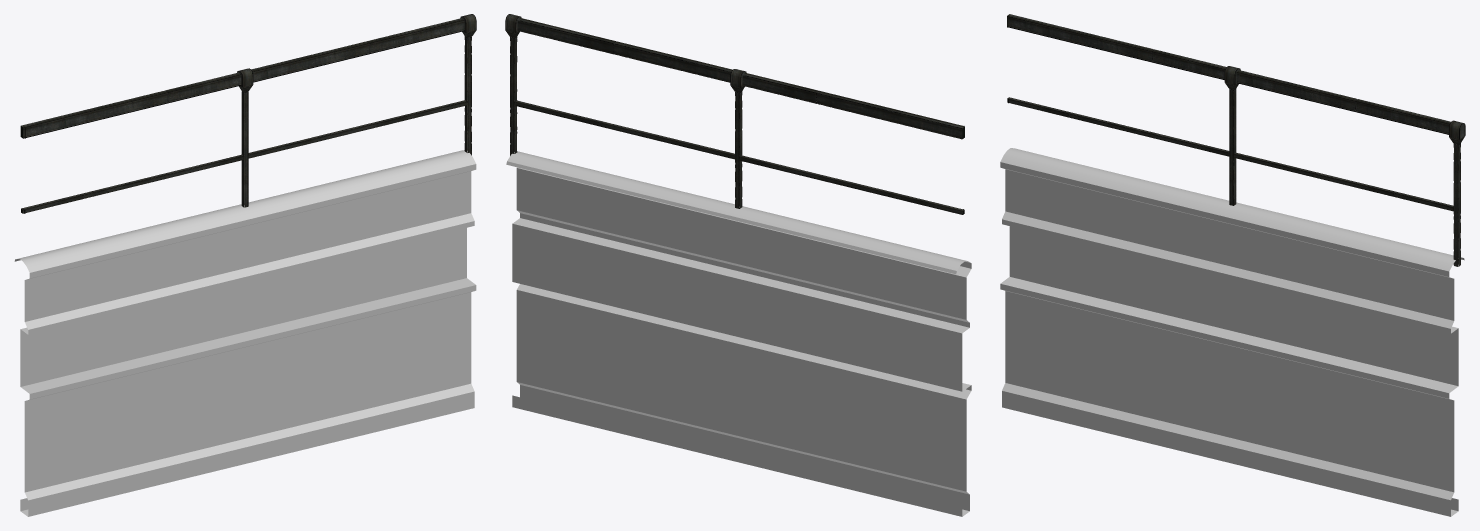
File: engineroom_balcony_straight.dae
3 views of the same model, side by side, from view 1: azimuth 30°, elevation 25°; view 2: azimuth 150°, elevation 25°; view 3: azimuth 330°, elevation 25° (orthographic).
Visible parts, largest first — view 1: balcony_straight_metal022, balcony_straight_bricks007, balcony_straight_rail; view 2: balcony_straight_metal022, balcony_straight_bricks007, balcony_straight_rail; view 3: balcony_straight_metal022, balcony_straight_bricks007, balcony_straight_rail.
Part boxes in pixels (bbox=[...]): balcony_straight_metal022: bbox=[14, 150, 476, 516]; balcony_straight_bricks007: bbox=[20, 228, 466, 386]; balcony_straight_rail: bbox=[20, 14, 476, 213]; balcony_straight_metal022: bbox=[506, 151, 971, 516]; balcony_straight_bricks007: bbox=[512, 223, 962, 391]; balcony_straight_rail: bbox=[505, 14, 964, 214]; balcony_straight_metal022: bbox=[1000, 148, 1464, 516]; balcony_straight_bricks007: bbox=[1009, 226, 1458, 386]; balcony_straight_rail: bbox=[1007, 14, 1465, 266].
Size of the model in its own units: 4.05 by 3.32 by 0.2367.
